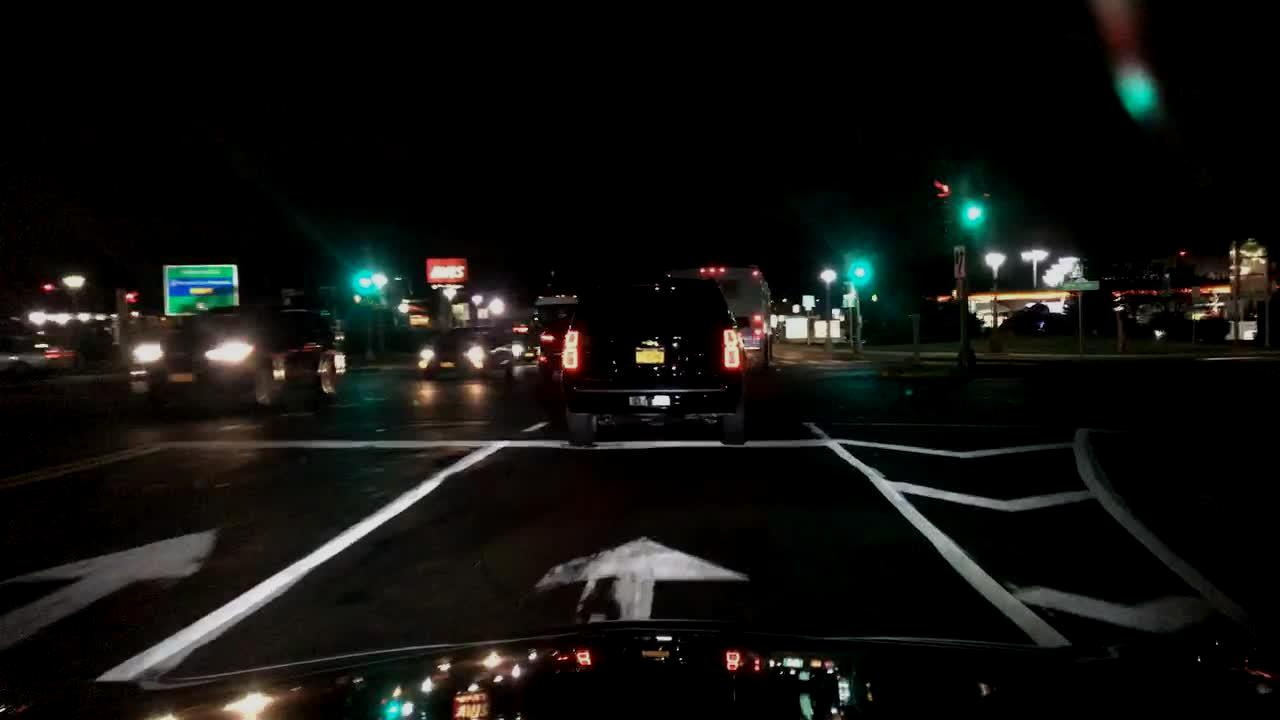chevrolet: (635, 325, 669, 353)
